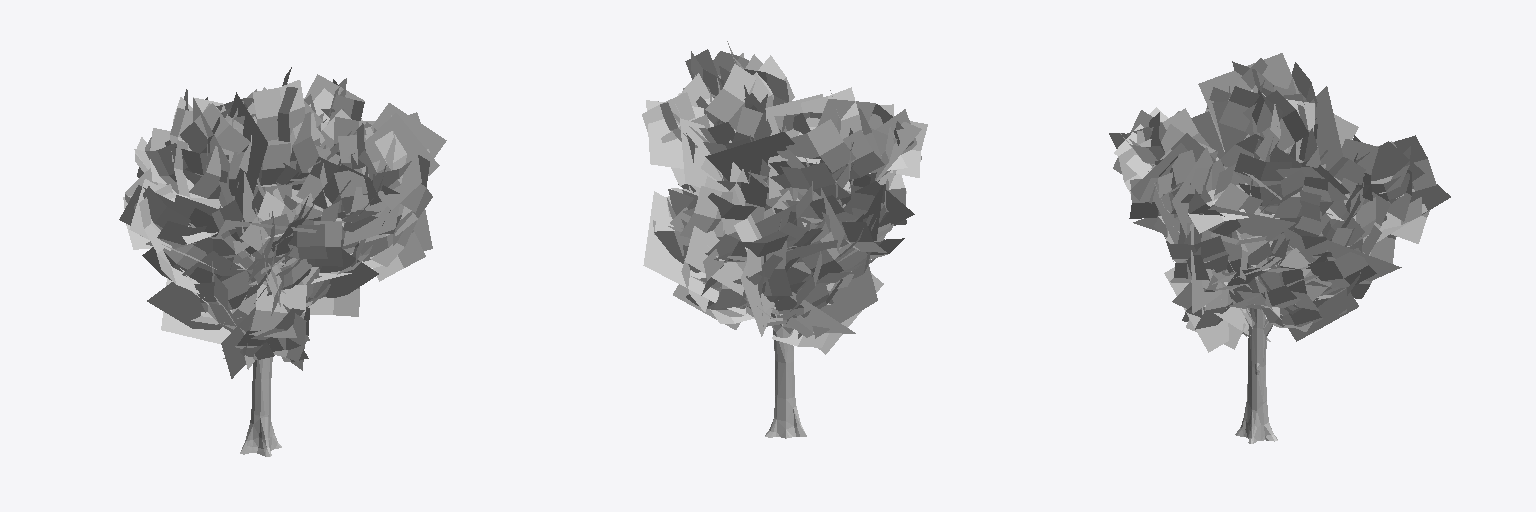
The model's file is tree_01_a.obj.
3 views of the same model, side by side, from view 1: azimuth 30°, elevation 25°; view 2: azimuth 150°, elevation 25°; view 3: azimuth 270°, elevation 25° (orthographic).
Visible parts, largest first — view 1: tree_01_a.obj; view 2: tree_01_a.obj; view 3: tree_01_a.obj.
Part boxes in pixels (x1,y1,x2,y2): tree_01_a.obj: (119, 67, 446, 456); tree_01_a.obj: (642, 41, 927, 438); tree_01_a.obj: (1109, 53, 1450, 443).
Bounding box in the file's own units: 295 × 376 × 320.